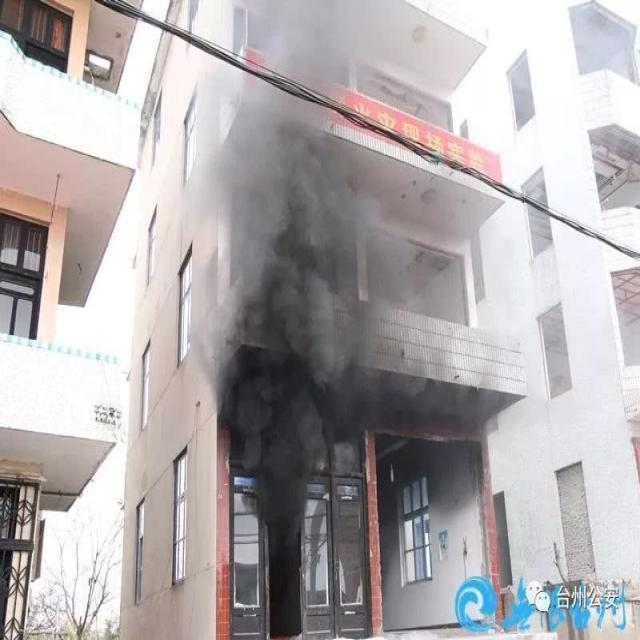Smoke: (200, 1, 464, 638)
